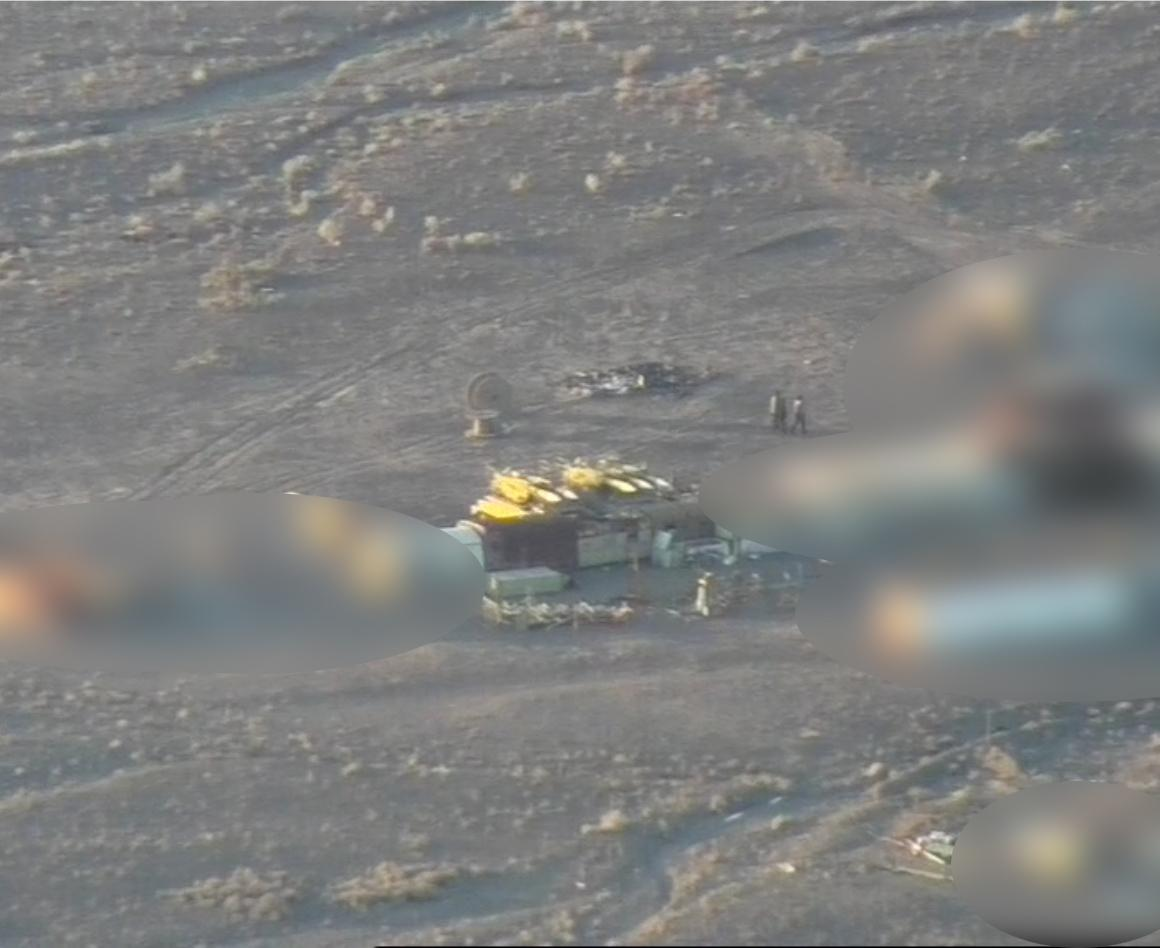armored_car: (464, 467, 578, 531), (568, 447, 678, 511)
